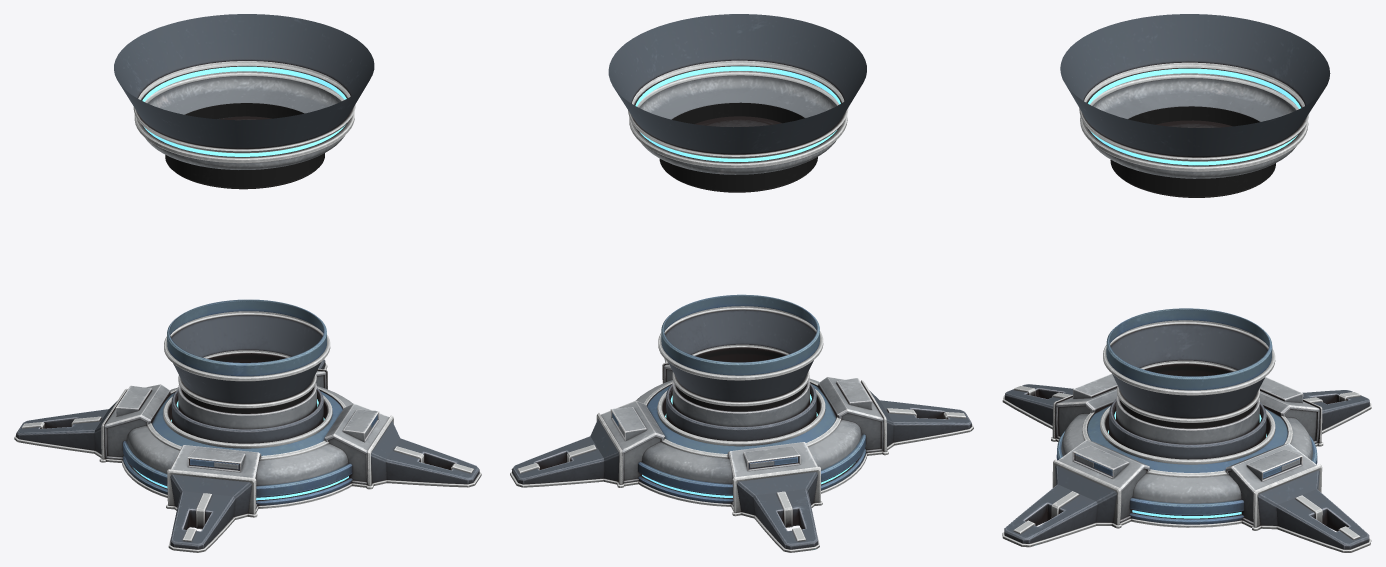
Rendered from basemodelo.glb.
The picture shows the model from 3 angles, left to right: view 1: azimuth 30°, elevation 25°; view 2: azimuth 150°, elevation 25°; view 3: azimuth 270°, elevation 25°; orthographic projection. The views are drawn at different scales.
Parts seen in each view (by area): view 1: Object_11; view 2: Object_11; view 3: Object_11.
Boxes of the visible parts, x1,y1,x2,y2 form: Object_11: (14,14,481,552); Object_11: (510,14,973,552); Object_11: (1002,14,1371,552).
Size of the model in its own units: 3.25 by 3.94 by 3.25.
Materials: 1 (1 with a texture image).
